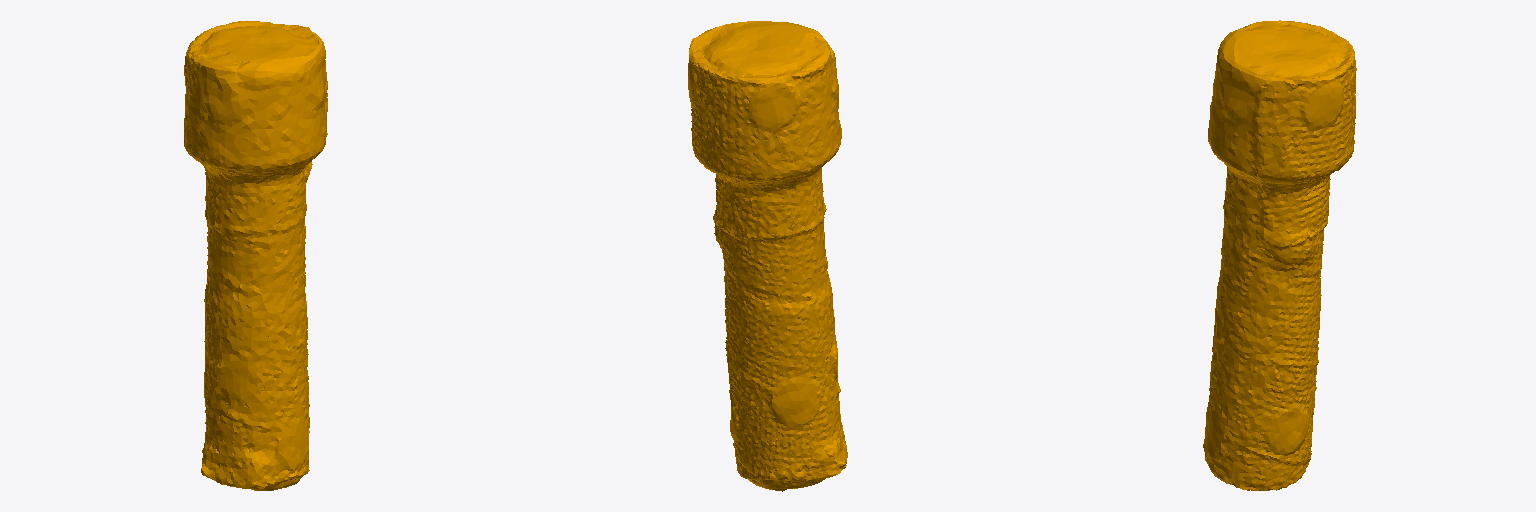
robot.urdf — small_flashlight:
<?xml version='1.0' encoding='utf-8'?>
<robot name="small_flashlight">
  <link name="small_flashlight">
    <visual>
      <origin xyz="0 0 0" rpy="0 0 0" />
      <geometry>
        <mesh filename="small_flashlight.obj" scale="1 1 1" />
      </geometry>
    </visual>
    <collision>
      <origin xyz="0 0 0" rpy="0 0 0" />
      <geometry>
        <mesh filename="small_flashlight_collision/decomp_0.obj" scale="1 1 1" />
      </geometry>
    </collision>
    <collision>
      <origin xyz="0 0 0" rpy="0 0 0" />
      <geometry>
        <mesh filename="small_flashlight_collision/decomp_1.obj" scale="1 1 1" />
      </geometry>
    </collision>
    <inertial>
      <origin xyz="-0.00145564 -0.00221853 0.00975012" rpy="0 0 0" />
      <mass value="0.123764" />
      <inertia ixx="0.000344462" ixy="-1.30416e-06" ixz="-1.22001e-05" iyy="0.000344705" iyz="-2.14798e-05" izz="3.53386e-05" />
    </inertial>
  </link>
</robot>

--- Render facts (derived) ---
3 views of the same robot in one strip: view 1: azimuth 30°, elevation 25°; view 2: azimuth 150°, elevation 25°; view 3: azimuth 270°, elevation 25° (orthographic).
Robot: small_flashlight — 1 links, 0 joints (none); root link small_flashlight; default pose: all joints at 0.
Links seen in each view (by area): view 1: small_flashlight; view 2: small_flashlight; view 3: small_flashlight.
Boxes of the visible links, bbox=[...] form: small_flashlight: bbox=[184, 21, 327, 490]; small_flashlight: bbox=[688, 21, 847, 491]; small_flashlight: bbox=[1203, 20, 1356, 490].
Size in the robot's own frame: 0.0559 by 0.0554 by 0.1749 metres.
Meshes: 1 distinct files referenced, 1 mesh visuals loaded (1 OBJ).
